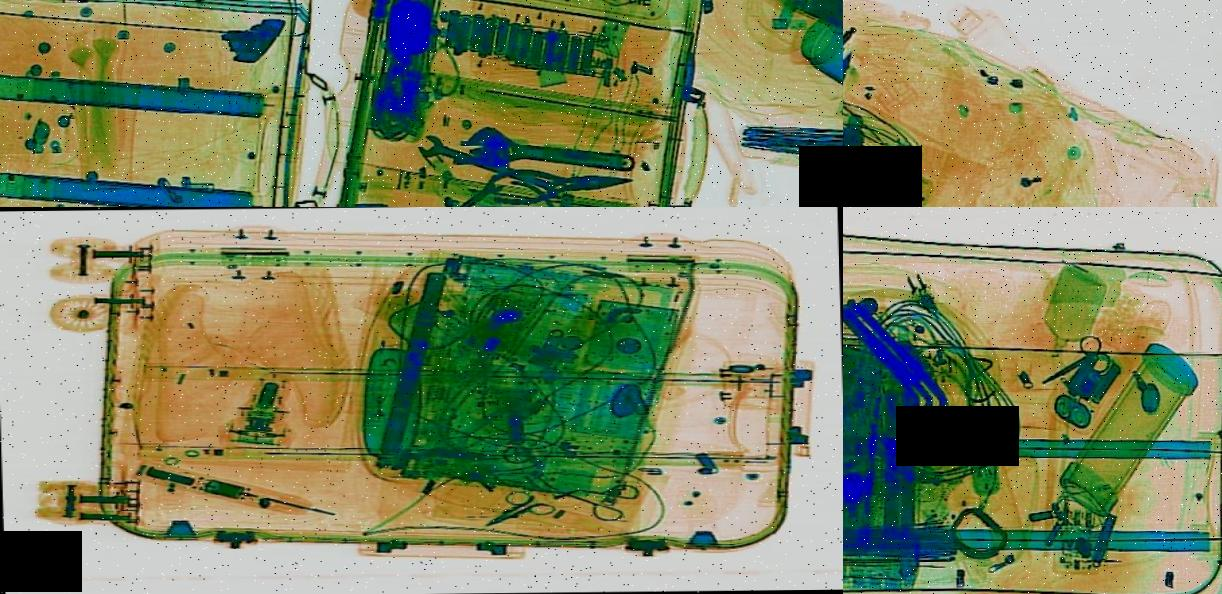Pliers: (486, 159, 640, 206), (843, 44, 872, 166)
Scissors: (1026, 330, 1124, 397), (459, 488, 568, 535)
Wrench: (405, 128, 591, 200), (451, 121, 651, 184)
